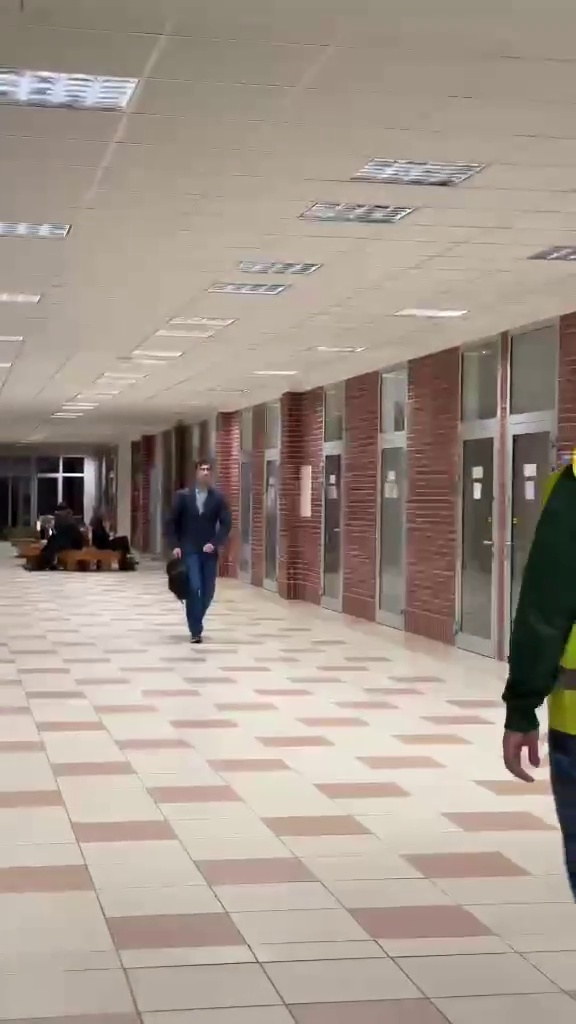no vest: (159, 453, 241, 653)
